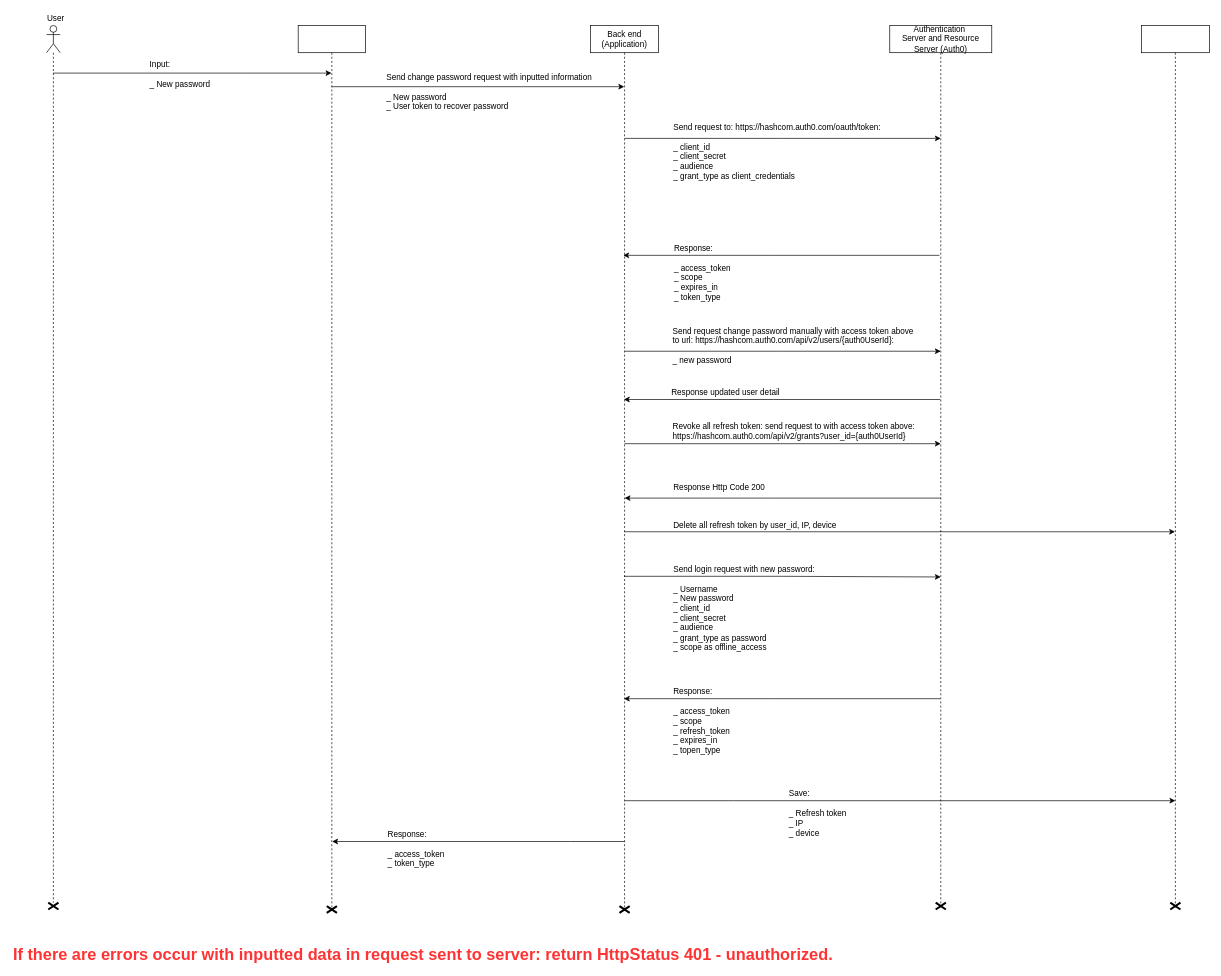
Some shapes in this 1221 by 976 pixel diagram are drawn without their labels. Here are the shapes that lost their labels. From the top down, the box of each, then its label:
(298, 25, 366, 910): Front end (Browser)
(1141, 25, 1209, 910): Application Database
